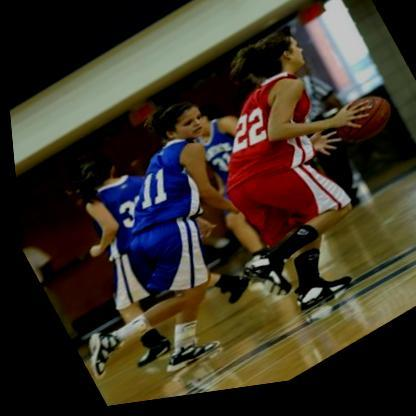basketball: (321, 95, 396, 161)
